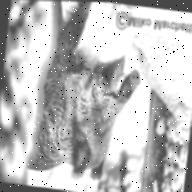boar: (9, 0, 155, 190)
